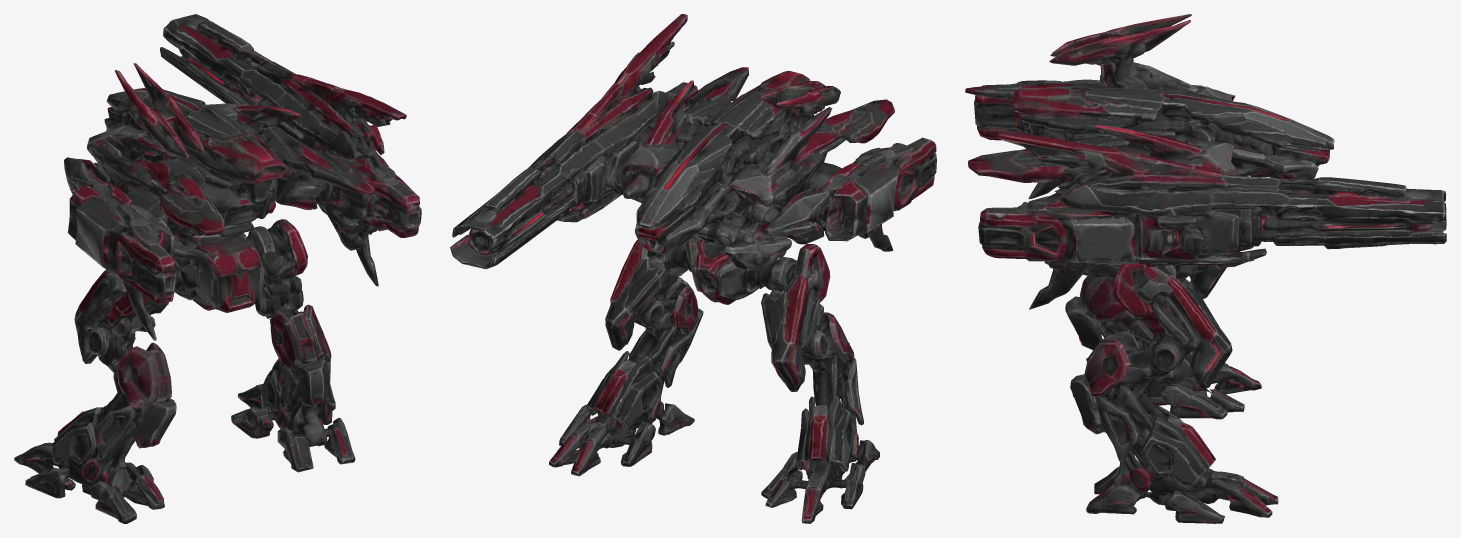
The model's file is herald-mech.glb.
3 renders of one model, left to right at view 1: azimuth 30°, elevation 25°; view 2: azimuth 150°, elevation 25°; view 3: azimuth 270°, elevation 25°, orthographic. The views are drawn at different scales.
Parts seen in each view (by area): view 1: torso_mesh, shinB_mesh, legB_mesh, shinA_mesh, legA_mesh; view 2: torso_mesh, shinA_mesh, shinB_mesh, legB_mesh, legA_mesh; view 3: torso_mesh, shinA_mesh, legA_mesh, shinB_mesh, legB_mesh.
Part boxes in pixels (left/top/right/bottom): torso_mesh: left=64, top=14, right=421, bottom=340; shinB_mesh: left=14, top=396, right=175, bottom=523; legB_mesh: left=74, top=285, right=210, bottom=424; shinA_mesh: left=231, top=358, right=355, bottom=472; legA_mesh: left=209, top=268, right=331, bottom=377; torso_mesh: left=450, top=14, right=936, bottom=313; shinA_mesh: left=549, top=320, right=700, bottom=476; shinB_mesh: left=761, top=363, right=879, bottom=523; legB_mesh: left=723, top=292, right=856, bottom=391; legA_mesh: left=605, top=255, right=717, bottom=350; torso_mesh: left=965, top=14, right=1446, bottom=316; shinA_mesh: left=1070, top=388, right=1278, bottom=523; legA_mesh: left=1070, top=287, right=1232, bottom=409; shinB_mesh: left=1069, top=312, right=1261, bottom=419; legB_mesh: left=1065, top=265, right=1226, bottom=320.
Bounding box in the file's own units: 5.45 × 6.8 × 7.26.
1 material, 1 textured.
